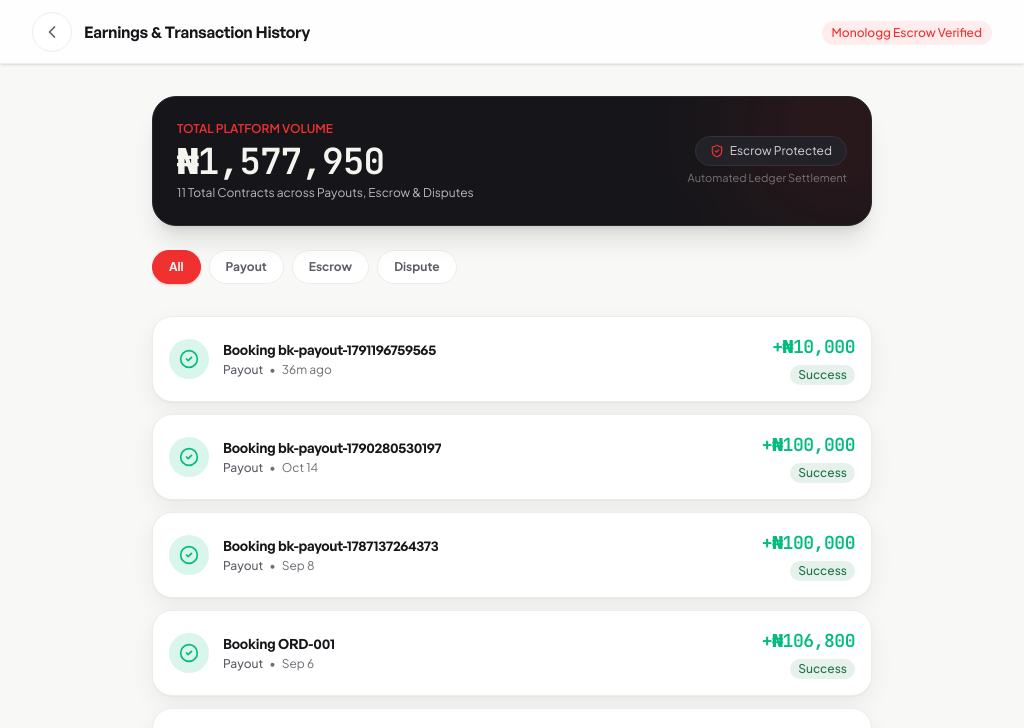
Scenario: TransactionHistory › dynamically changes the hero balance when toggling Payout, Escrow, and Dispute chips
The width and height of the screenshot is (1024, 728).
Check: the text "TOTAL PLATFORM VOLUME" is shown, box [177,121,333,136]
What coordinates should you click on to do the following:
click the button "Payout"
I would click on:
 (246, 267)
Its box is [209,250,284,284].
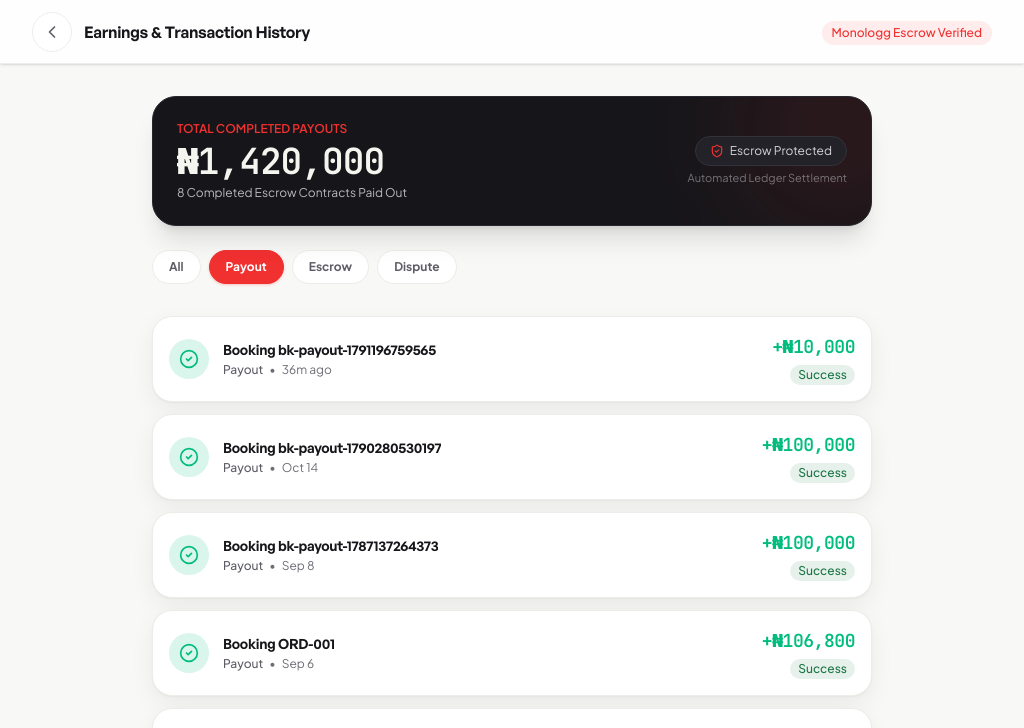
Check: the text "TOTAL COMPLETED PAYOUTS" is shown, box [177,121,347,136]
Check: the text "₦1,420,000" is shown, box [177,141,407,181]
Check: the text "8 Completed Escrow Contracts Paid Out" is shown, box [177,185,407,201]
What coordinates should you click on to do the following:
click the button "Escrow"
I would click on:
 (330, 267)
Its box is [292,250,369,284].
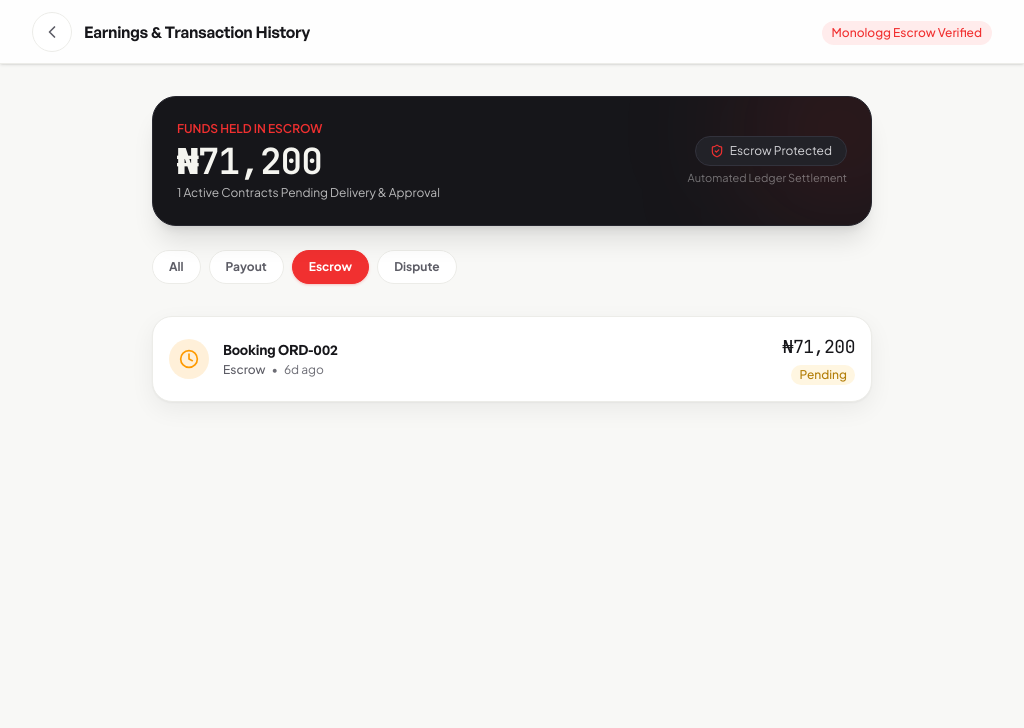
Check: the text "FUNDS HELD IN ESCROW" is shown, box [177,121,322,136]
Check: the text "1 Active Contracts Pending Delivery & Approval" is shown, box [177,185,440,201]
What coordinates should you click on to do the following:
click the button "Dispute"
I would click on:
 (417, 267)
Its box is [377,250,457,284].
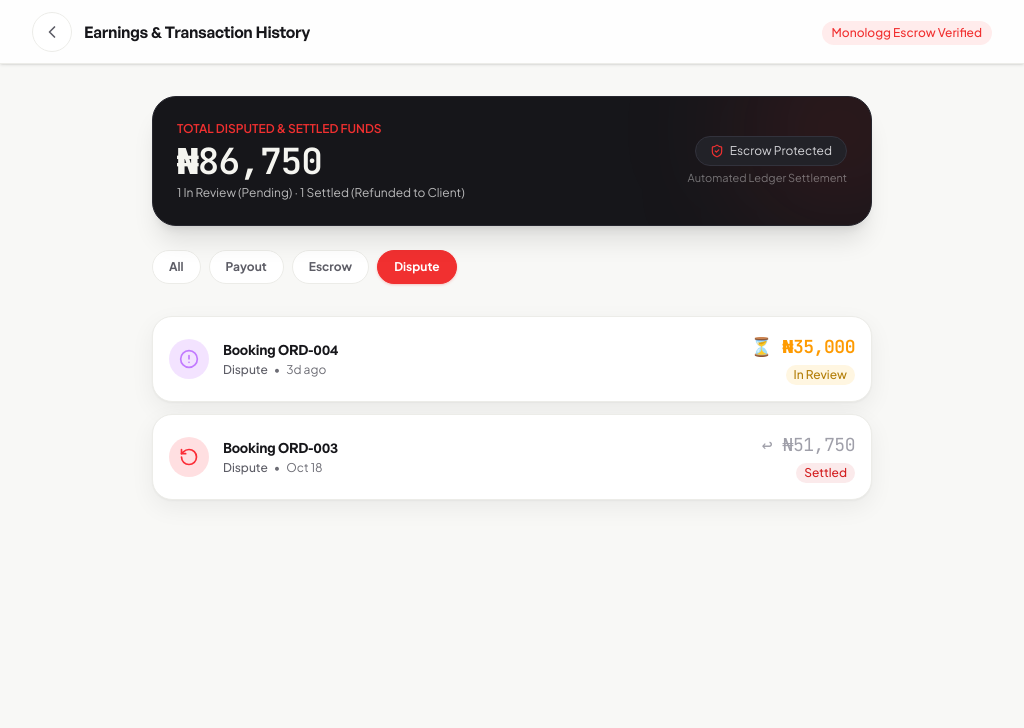
Check: the text "TOTAL DISPUTED & SETTLED FUNDS" is shown, box [177,121,382,136]
Check: the text "1 In Review (Pending) · 1 Settled (Refunded to Client)" is shown, box [177,185,465,201]
